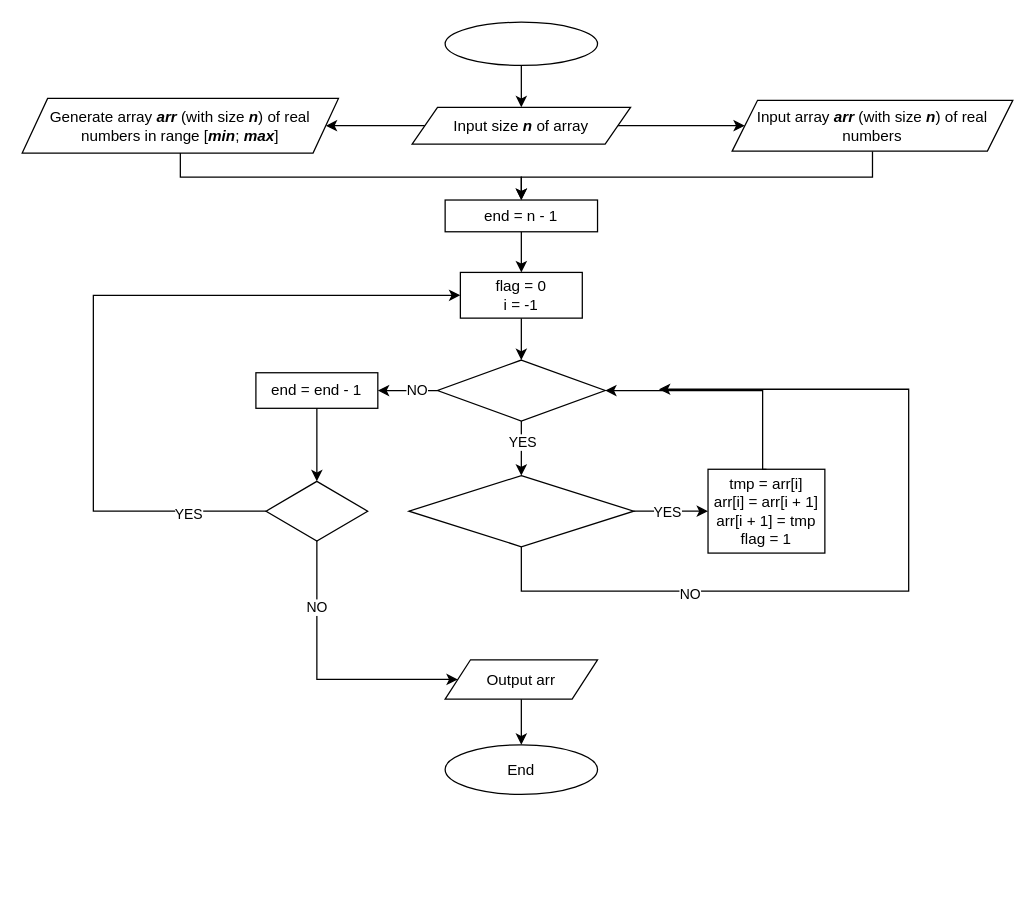
This 1035x899 diagram has some shape labels left out. The centre of each missing label's shape, as x and y in pixels:
"(i = i + 1) < end ?" goes at (x=520, y=390).
"arr[i] < arr[i + 1] ?" goes at (x=521, y=510).
"Begin" goes at (x=521, y=43).
"flag = 1 ?" goes at (x=316, y=510).
